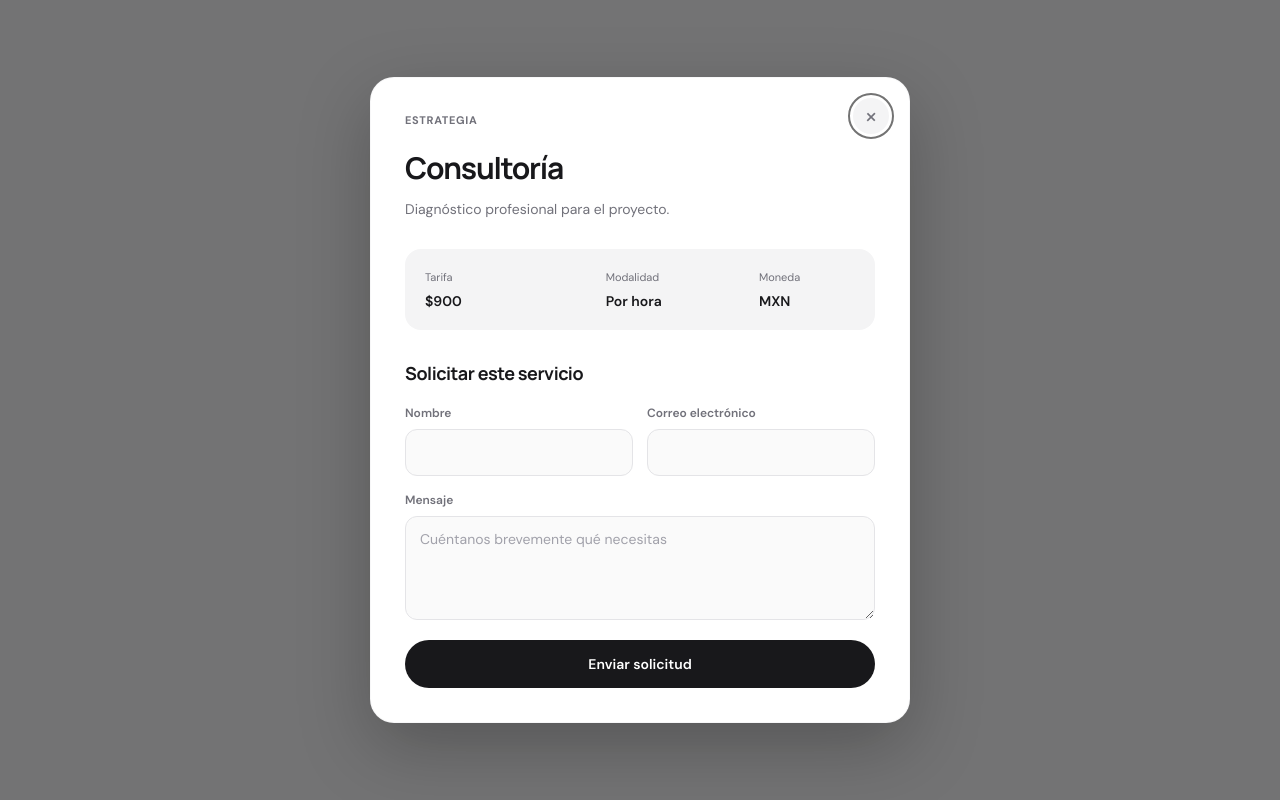
it: ServiceDetailsModal › envía la solicitud de un visitante
Type "Ana López" into the field labelled "Nombre". click: x=519, y=453
box: [405,429,633,476]
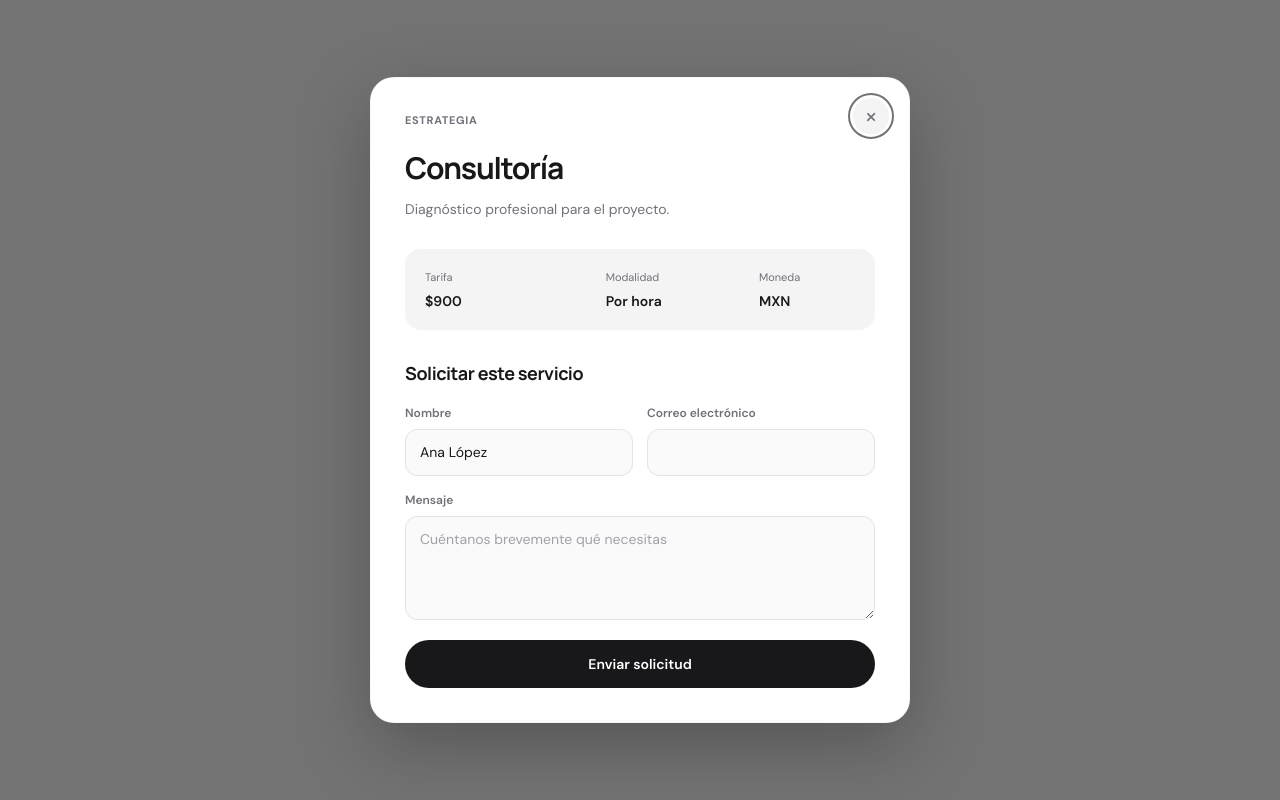
Type "ana@example.com" into the field labelled "Correo electrónico". click: x=761, y=453
box: [647,429,875,476]
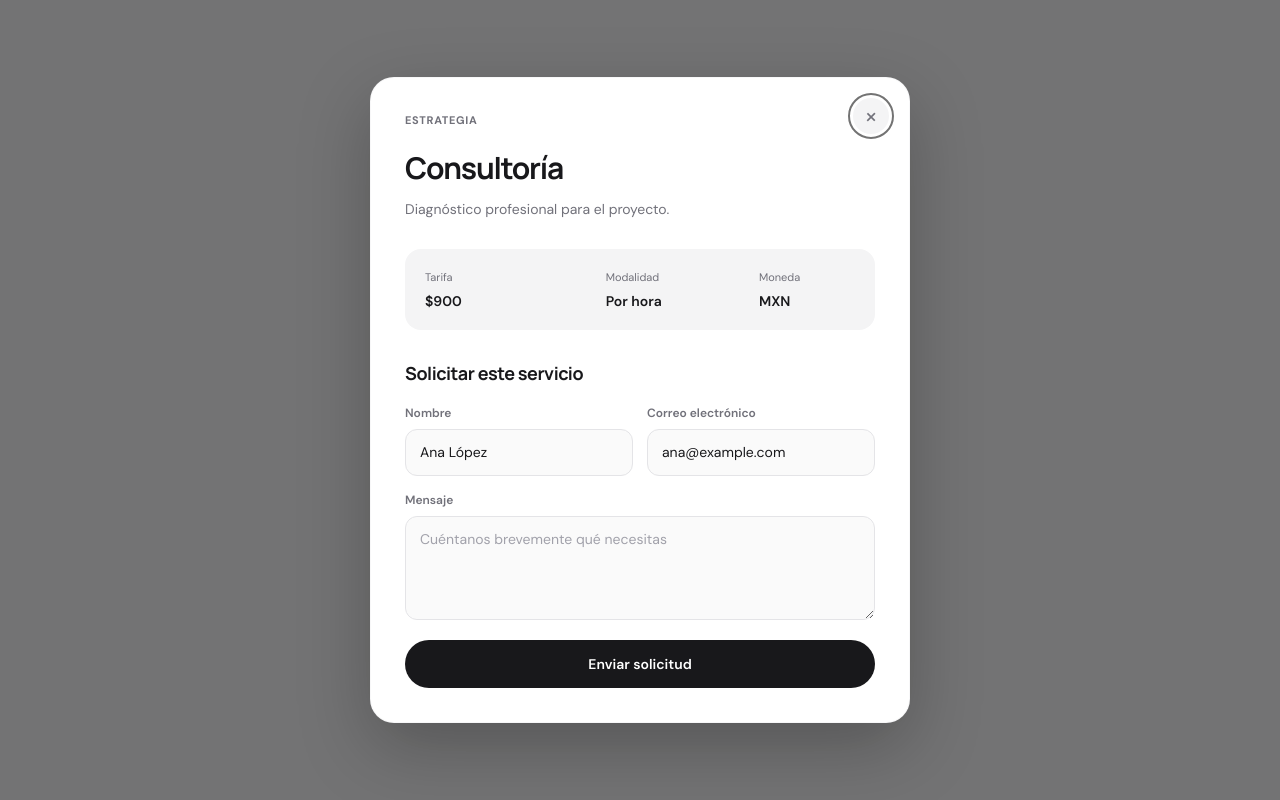
Type "Necesito información sobre este servicio." into the text box labelled "Mensaje". click: x=640, y=568
box: [405,516,875,620]
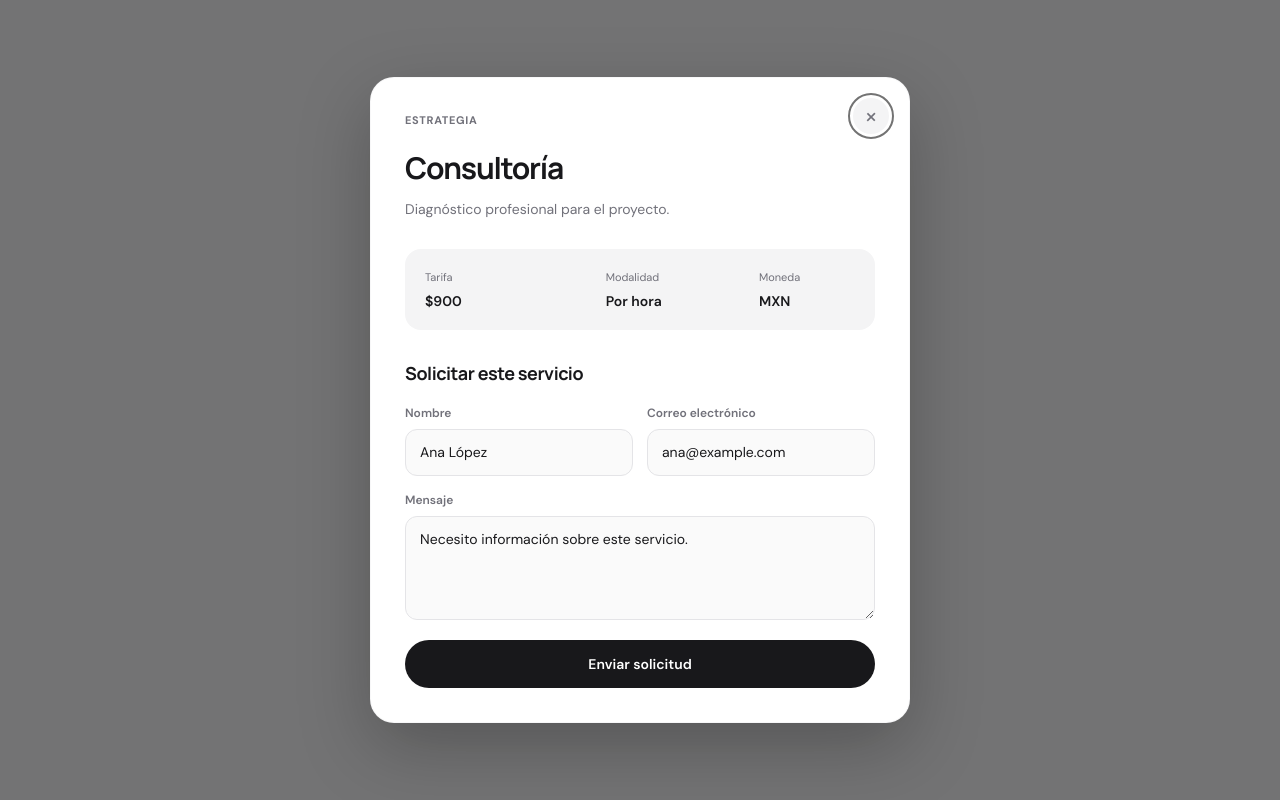
Click the button "Enviar solicitud". click: x=640, y=664
box: [405,640,875,688]
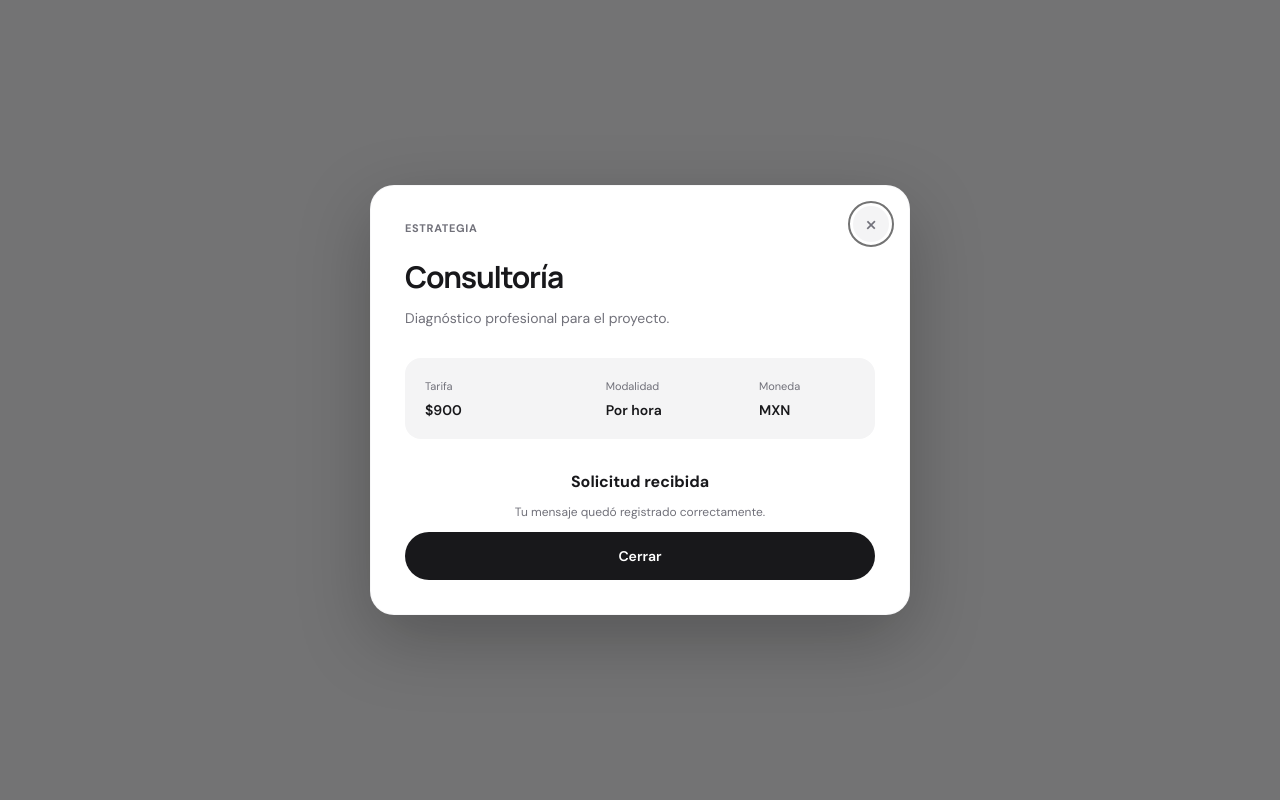
Now the text "Solicitud recibida" is shown, box [571,470,709,492]
